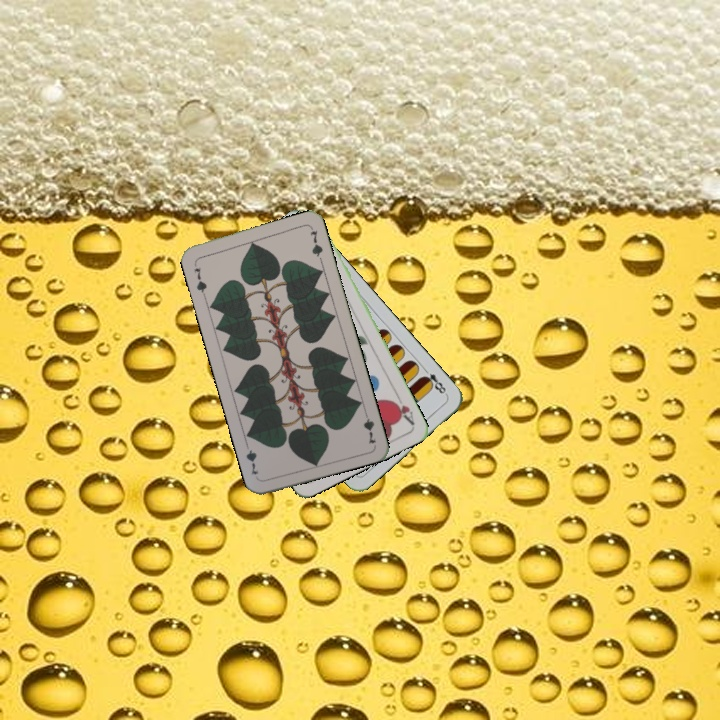E8: (418, 364, 450, 399)
G7: (359, 406, 378, 447), (190, 263, 209, 299)
HA: (388, 390, 417, 428)
